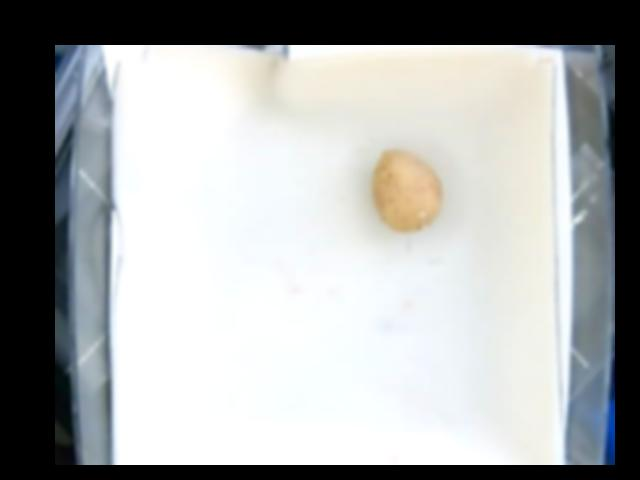Potato: (371, 147, 441, 232)
